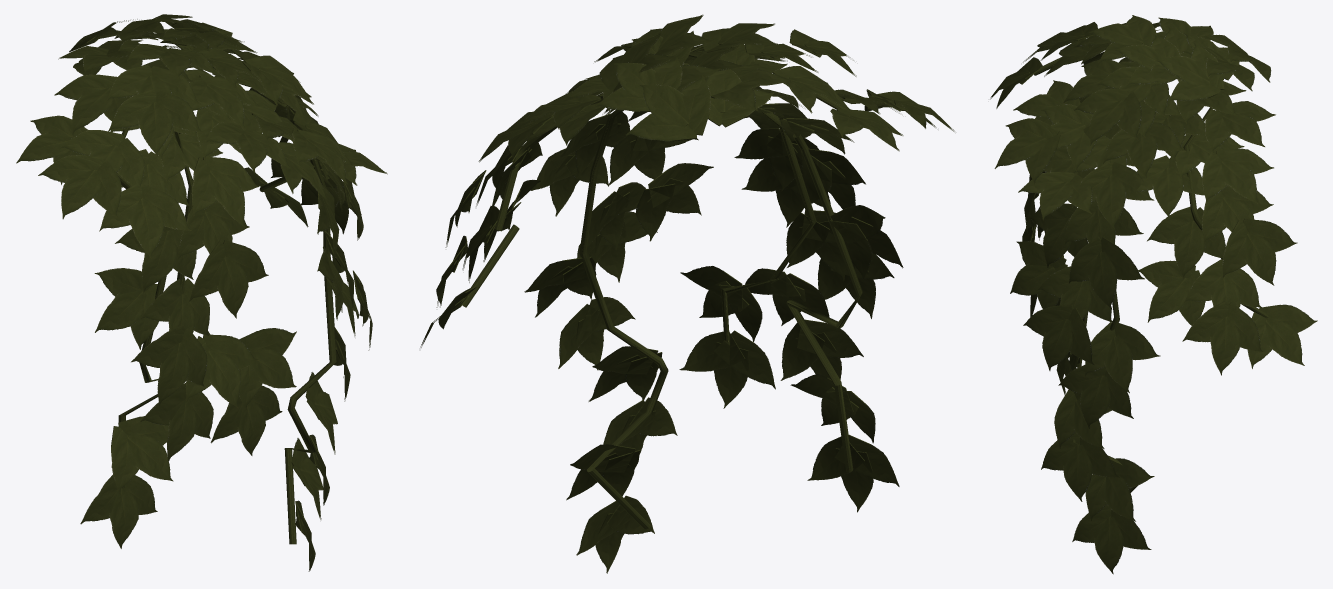
File: vegetation_climbing.fbx
The picture shows the model from 3 angles, left to right: view 1: azimuth 30°, elevation 25°; view 2: azimuth 150°, elevation 25°; view 3: azimuth 270°, elevation 25°; orthographic projection. The views are drawn at different scales.
Visible parts, largest first — view 1: polySurface30; view 2: polySurface30; view 3: polySurface30.
Boxes of the visible parts, x1=… form: polySurface30: x1=16, y1=14, x2=387, y2=571; polySurface30: x1=420, y1=14, x2=954, y2=573; polySurface30: x1=990, y1=15, x2=1317, y2=574.
Size of the model in its own units: 0.6586 by 0.8985 by 0.5533.
Materials: 1 (1 with a texture image).
